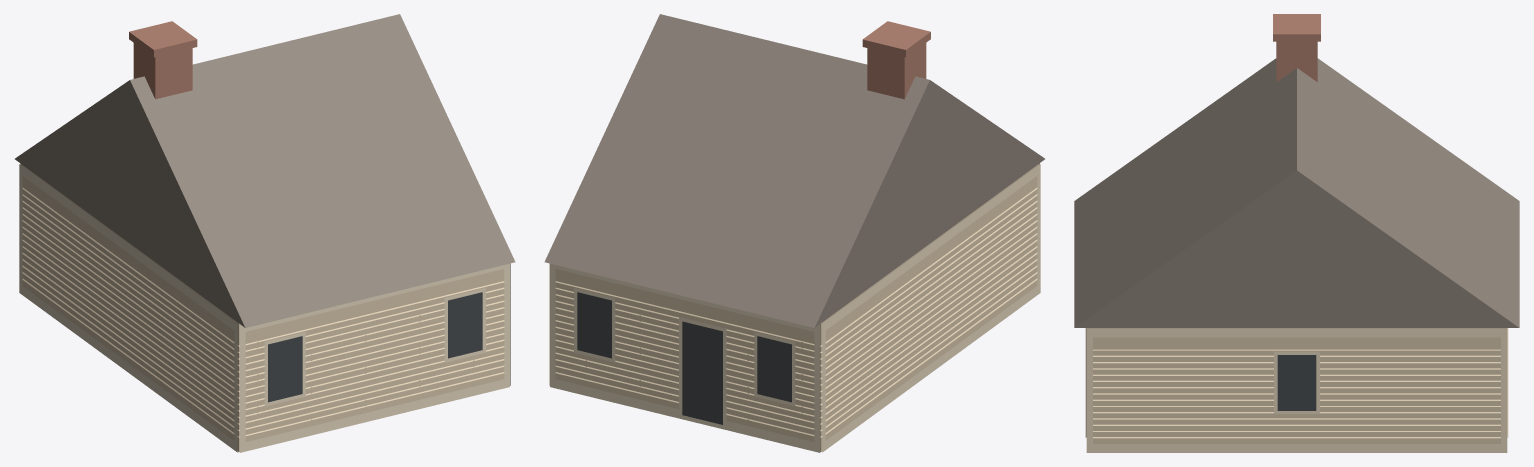
The model's file is recon_1835_west_003__inferred_1835.glb.
The picture shows the model from 3 angles, left to right: view 1: azimuth 30°, elevation 25°; view 2: azimuth 150°, elevation 25°; view 3: azimuth 270°, elevation 25°; orthographic projection. The views are drawn at different scales.
Parts seen in each view (by area): view 1: recon_1835_west_003__inferred_1835; view 2: recon_1835_west_003__inferred_1835; view 3: recon_1835_west_003__inferred_1835.
Boxes of the visible parts, box(x1,y1,x2,y2) form: recon_1835_west_003__inferred_1835: box(15, 14, 515, 452); recon_1835_west_003__inferred_1835: box(544, 14, 1044, 452); recon_1835_west_003__inferred_1835: box(1074, 14, 1519, 452).
Bounding box in the file's own units: 6.18 × 7.09 × 9.03.
